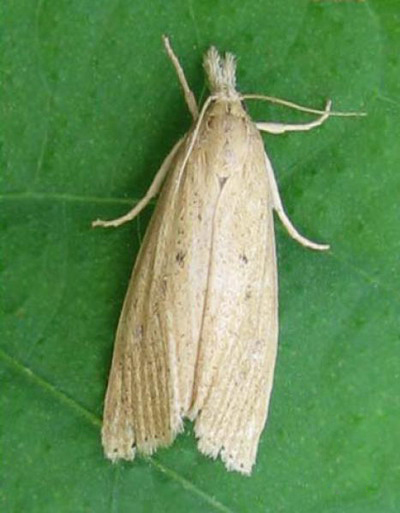Crambidae: (86, 30, 367, 476)
